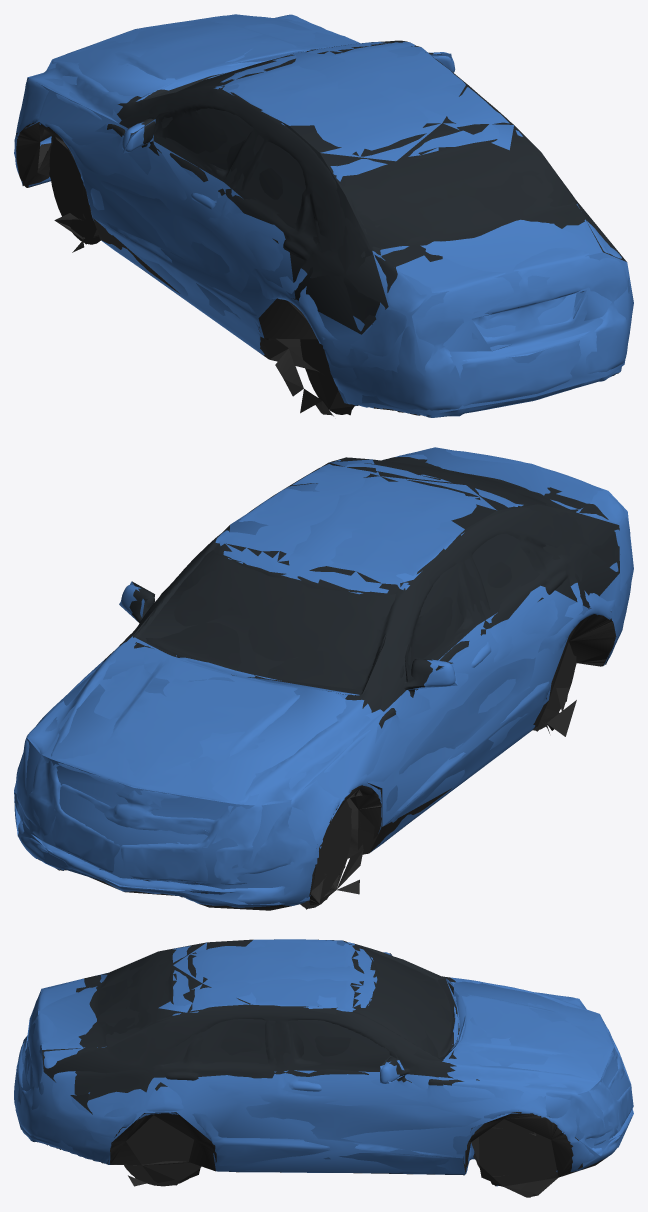
Rendered from cadillac-ats-v.glb.
3 views of the same model, one above another, from view 1: azimuth 30°, elevation 25°; view 2: azimuth 150°, elevation 25°; view 3: azimuth 270°, elevation 25° (orthographic). The views are drawn at different scales.
Parts seen in each view (by area): view 1: body, far; view 2: body, far; view 3: body, far.
Part boxes in pixels (box(x1,y1,x2,y2)): body: box(14, 14, 632, 417); far: box(14, 14, 633, 415); body: box(14, 450, 632, 910); far: box(14, 447, 633, 909); body: box(14, 939, 632, 1196); far: box(15, 939, 633, 1197).
Bounding box in the file's own units: 2.18 × 1.5 × 4.72.
